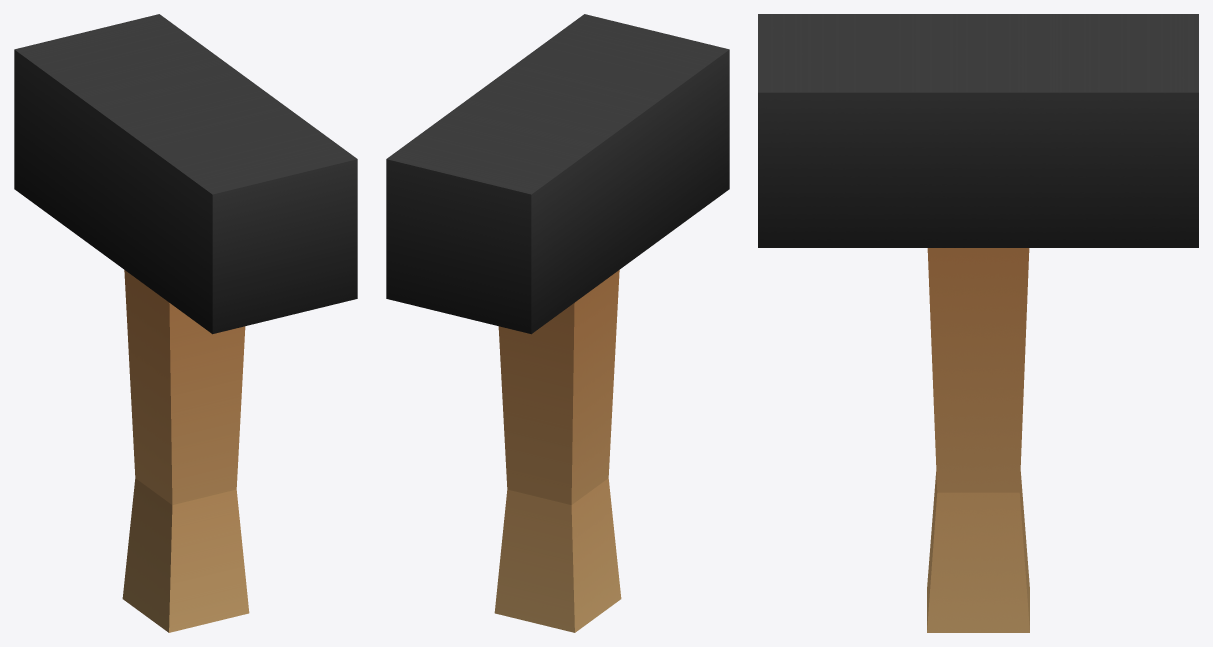
The model's file is Hammer.obj.
3 views of the same model, side by side, from view 1: azimuth 30°, elevation 25°; view 2: azimuth 150°, elevation 25°; view 3: azimuth 270°, elevation 25° (orthographic). The views are drawn at different scales.
Parts seen in each view (by area): view 1: Cube_Cube.001; view 2: Cube_Cube.001; view 3: Cube_Cube.001.
Part boxes in pixels (x1,y1,x2,y2): Cube_Cube.001: [14, 14, 357, 632]; Cube_Cube.001: [386, 14, 729, 632]; Cube_Cube.001: [758, 14, 1198, 632].
Size of the model in its own units: 0.1774 by 0.5858 by 0.4194.
